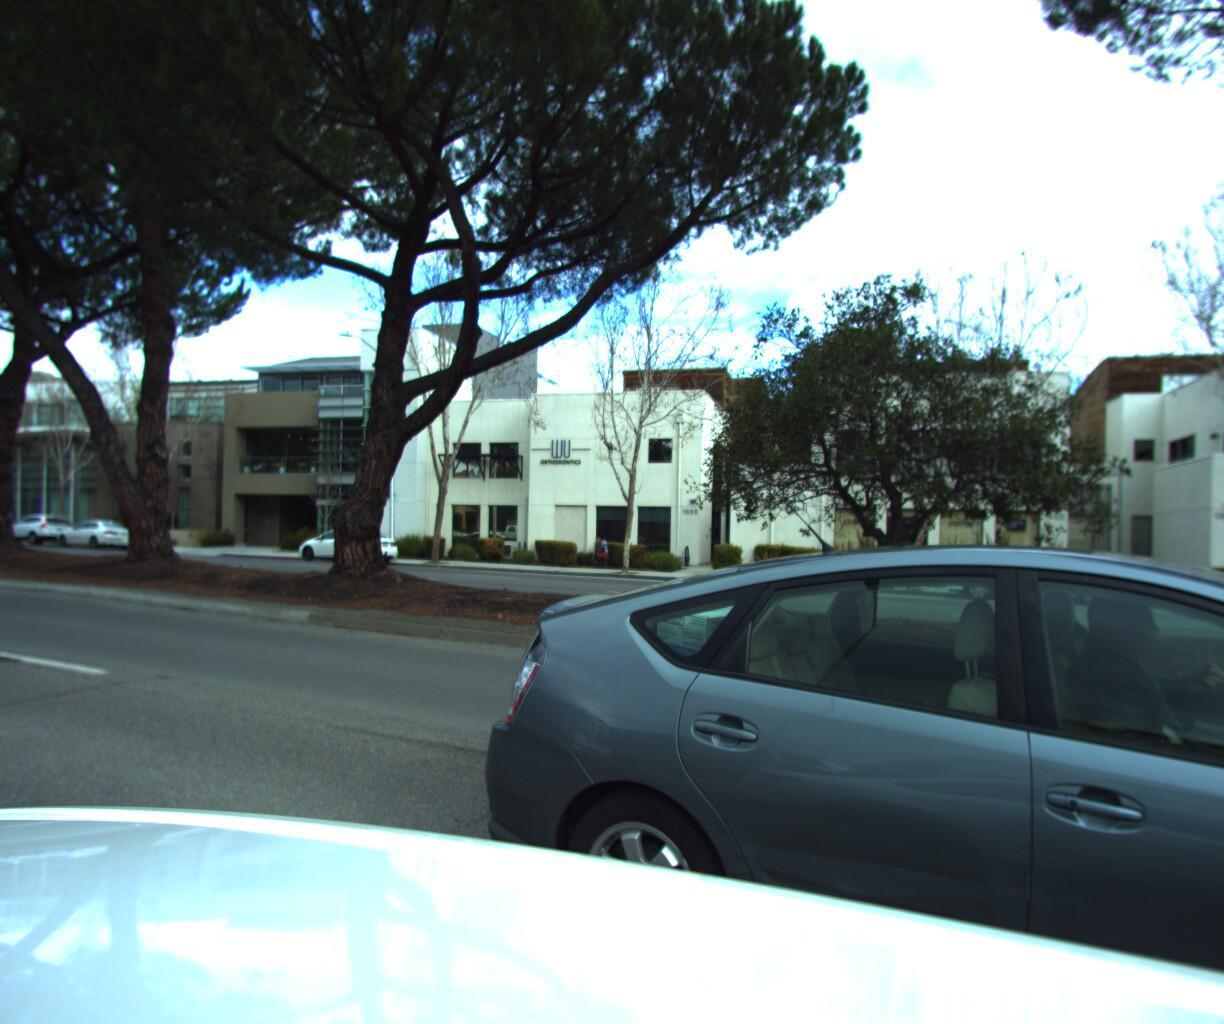car: (406, 528, 1224, 1024), (933, 540, 1146, 605), (285, 522, 401, 562), (49, 513, 139, 547), (0, 508, 75, 544)
